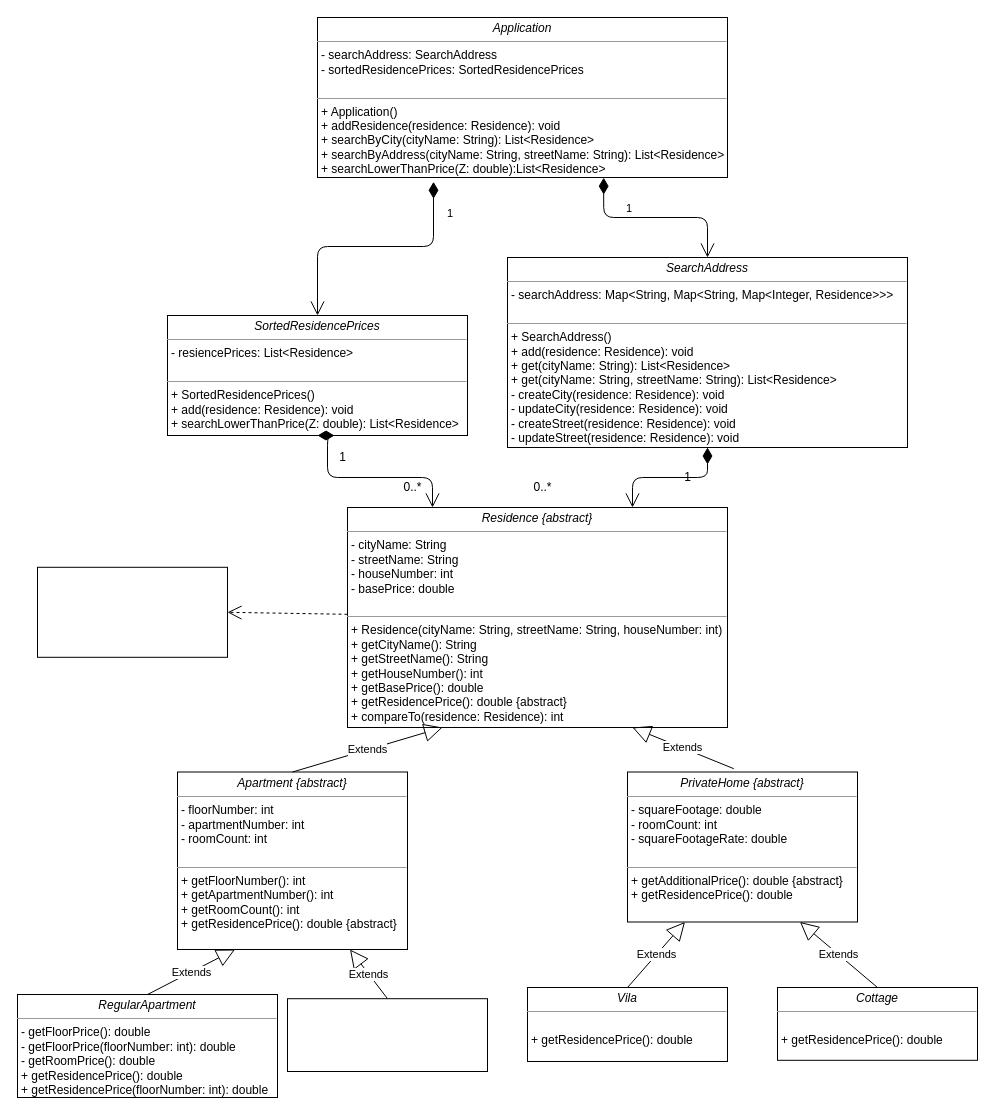
The diagram is 995 pixels wide and 1115 high, and some of its shapes have lost their labels. The box of each missing label's shape, as (x1, y1, x2, y2) in pixels:
<<Interface>> Comparable + compareTo(other: Object): int: (36, 566, 228, 657)
GardenApartment + getResidencePrice(): double: (286, 998, 488, 1072)
